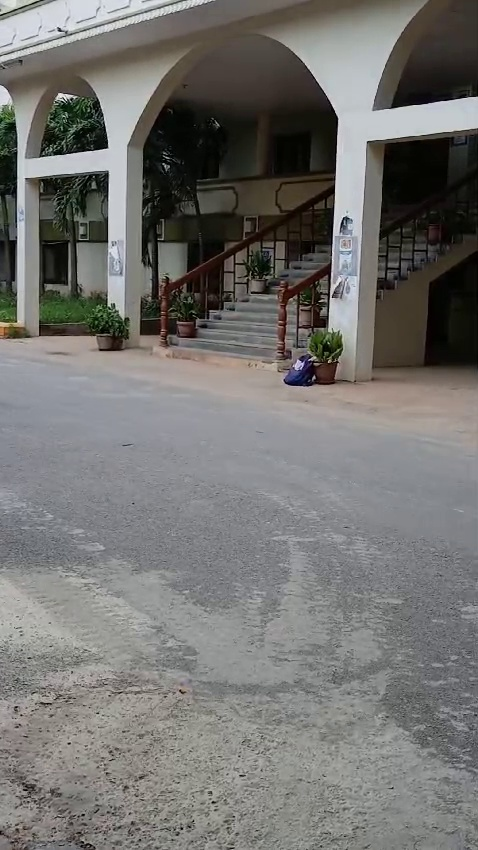bag: (277, 351, 312, 391)
